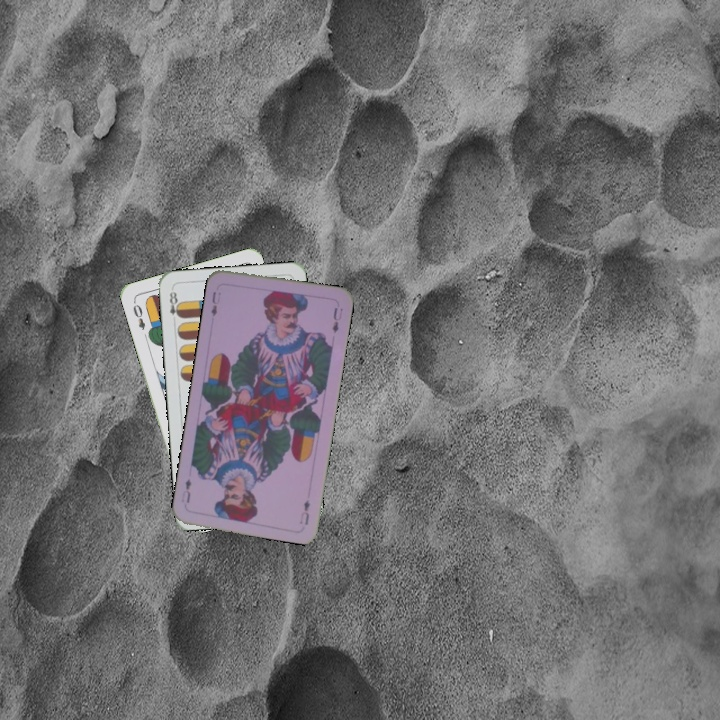E8: (166, 285, 183, 326)
EO: (129, 297, 148, 332)
EU: (207, 287, 224, 319), (296, 496, 313, 528)
